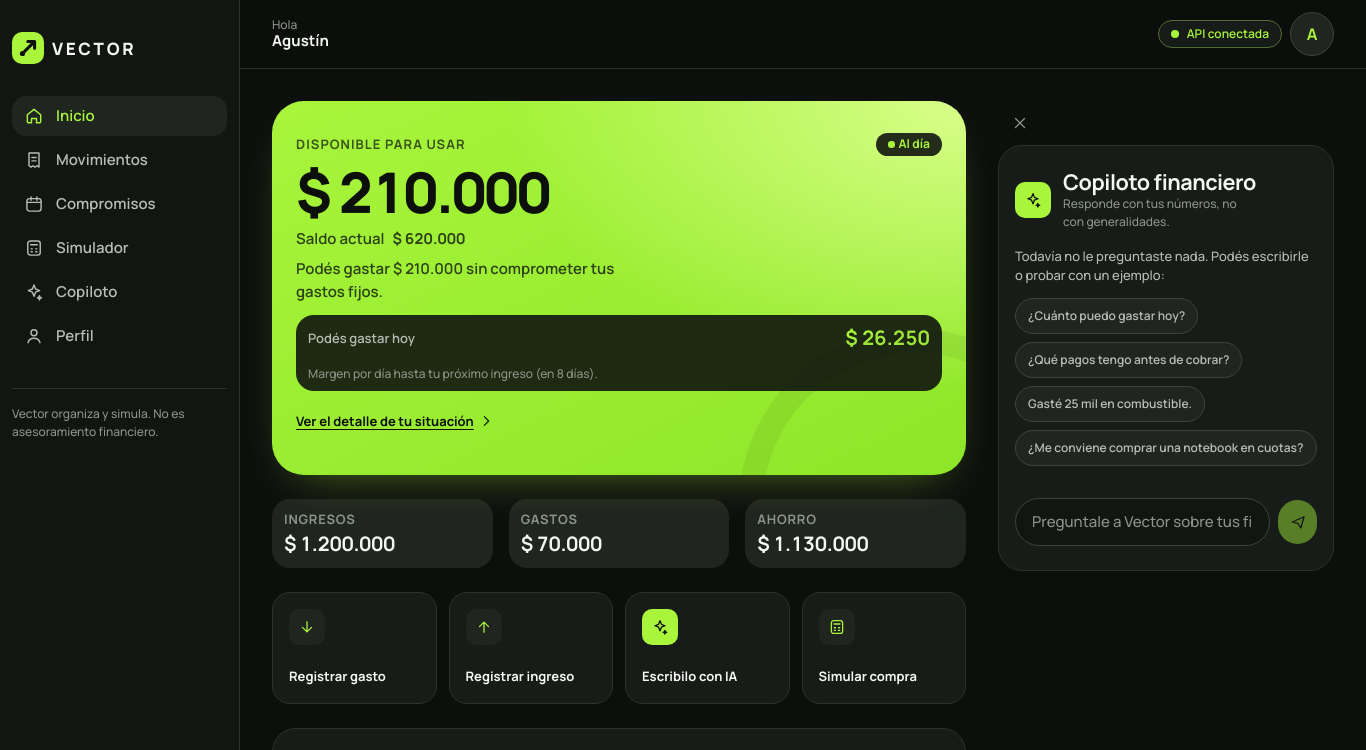
Scenario: Navegación de la aplicación › el avatar del header también lleva al perfil y tiene nombre accesible
Click the button named "Abrir tu perfil" at (1312, 34), box [1290,12,1334,56]
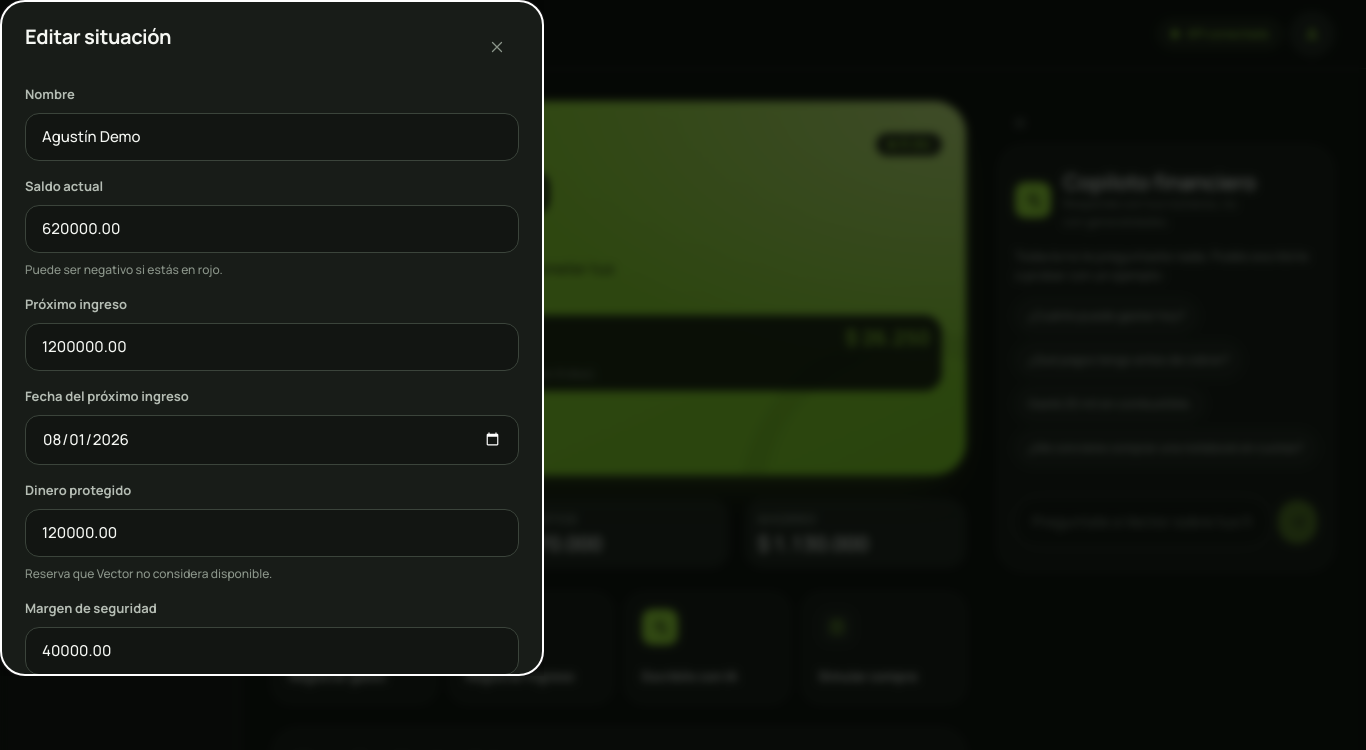
Expected: the dialog is shown, [0,0,544,676]
